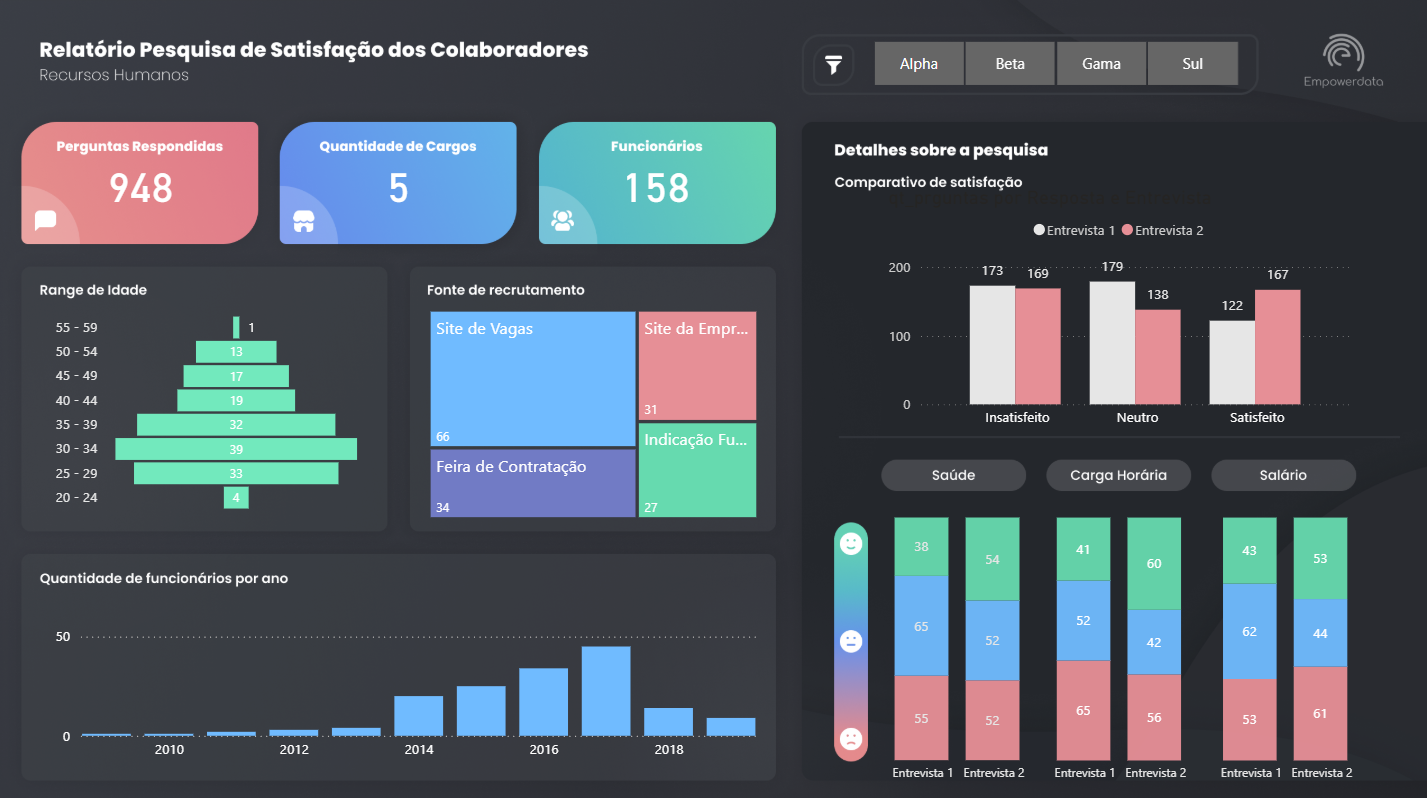

The dashboard page shown, as its layout file describes it:
{"tool":"powerbi","page":{"name":"Página 1","canvas":[1280,720],"ordinal":0},"visuals":[{"type":"card","fields":{"Values":["Entrevistas.prguntas"]},"box":[23.3,111.6,205.8,115.1],"z":0},{"type":"card","fields":{"Values":["Entrevistas.qt_func"]},"box":[252.3,111.6,205.8,115.1],"z":1000},{"type":"card","fields":{"Values":["Entrevistas.qt_func"]},"box":[482.6,111.6,205.8,115.1],"z":2000},{"type":"clusteredColumnChart","fields":{"Category":["Entrevistas.Resposta"],"Y":["Entrevistas.prguntas"],"Series":["Entrevistas.Entrevista"]},"box":[787.2,169.8,424.4,224.4],"z":3000},{"type":"funnel","fields":{"Y":["Entrevistas.qt_func"],"Category":["Integrantes.Faixa Etária"]},"box":[45.4,279.8,283.4,185.3],"z":4000},{"type":"slicer","fields":{"Values":["Integrantes.Unidade"]},"box":[753.5,34.9,373.3,52.3],"z":5000},{"type":"treemap","fields":{"Group":["Integrantes.Fonte Recrutamento"],"Values":["Entrevistas.qt_func"]},"box":[379.1,276.7,300,193],"z":6000},{"type":"clusteredColumnChart","fields":{"Y":["Entrevistas.qt_func"],"Category":["Integrantes.Data Contratação.Variation.Hierarquia de datas.Ano"]},"box":[45.3,539.5,633.7,150],"z":7000},{"type":"columnChart","fields":{"Y":["Entrevistas.qt_prguntas"],"Series":["Entrevistas.Resposta"],"Category":["Entrevistas.Entrevista"]},"box":[735.6,394.4,237.8,315.6],"z":8000},{"type":"columnChart","fields":{"Y":["Entrevistas.qt_prguntas"],"Series":["Entrevistas.Resposta"],"Category":["Entrevistas.Entrevista"]},"box":[880.8,394.2,236.7,315.8],"z":9000},{"type":"columnChart","fields":{"Y":["Entrevistas.qt_prguntas"],"Series":["Entrevistas.Resposta"],"Category":["Entrevistas.Entrevista"]},"box":[1028.3,394.2,236.7,315.8],"z":10000}]}

Visuals, with their boxes in screenshot pixels (x1, y1, x2, y2), scaled from the page's 1280x720 canvas onto the 1427x798 screenshot:
card - Entrevistas.prguntas: box=[26, 124, 255, 251]
card - Entrevistas.qt_func: box=[281, 124, 511, 251]
card - Entrevistas.qt_func: box=[538, 124, 767, 251]
clusteredColumnChart - Entrevistas.Resposta x Entrevistas.prguntas: box=[878, 188, 1351, 437]
funnel - Entrevistas.qt_func x Integrantes.Faixa Etária: box=[51, 310, 367, 515]
slicer - Integrantes.Unidade: box=[840, 39, 1256, 97]
treemap - Integrantes.Fonte Recrutamento x Entrevistas.qt_func: box=[423, 307, 757, 521]
clusteredColumnChart - Entrevistas.qt_func x Integrantes.Data Contratação.Variation.Hierarquia de datas.Ano: box=[51, 598, 757, 764]
columnChart - Entrevistas.qt_prguntas x Entrevistas.Resposta: box=[820, 437, 1085, 787]
columnChart - Entrevistas.qt_prguntas x Entrevistas.Resposta: box=[982, 437, 1246, 787]
columnChart - Entrevistas.qt_prguntas x Entrevistas.Resposta: box=[1146, 437, 1410, 787]
